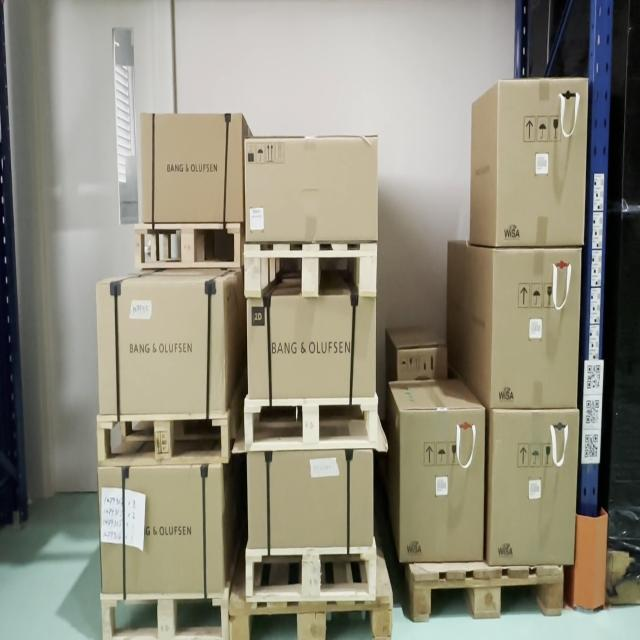box: (97, 473, 223, 597), (102, 289, 220, 409), (498, 82, 586, 242), (494, 250, 581, 404), (403, 411, 486, 563), (493, 416, 576, 562), (246, 143, 374, 232), (247, 301, 372, 390), (252, 459, 374, 544), (144, 119, 242, 218)
